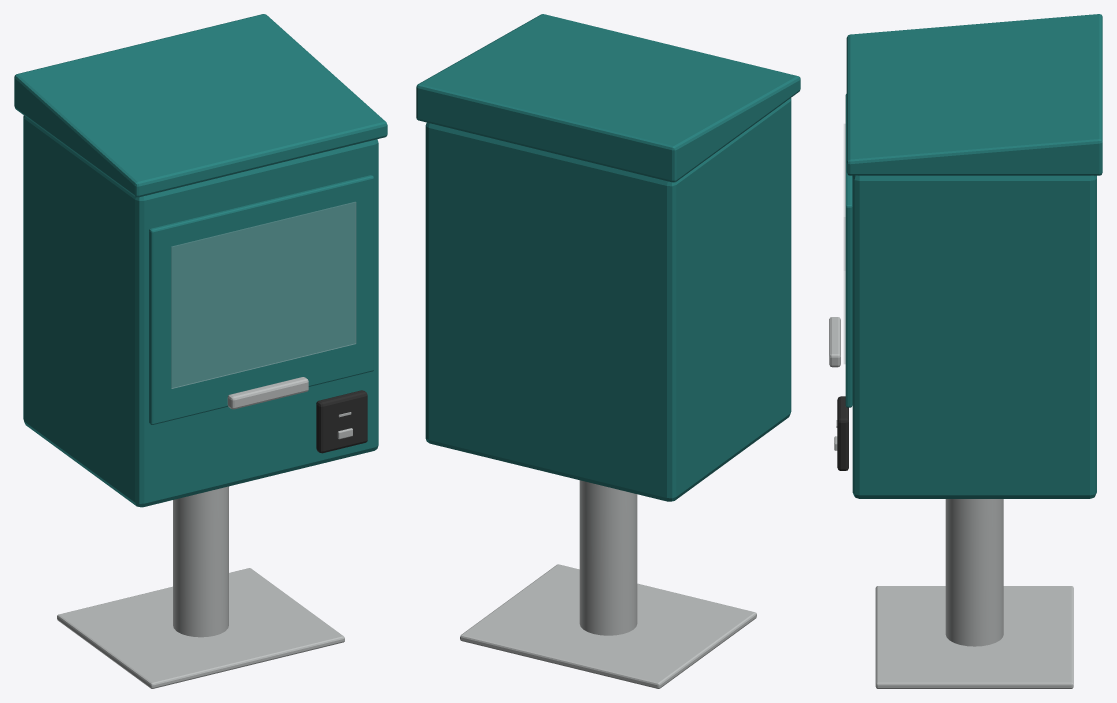
Rendered from city-newspaper-vending-box.glb.
3 views of the same model, side by side, from view 1: azimuth 30°, elevation 25°; view 2: azimuth 150°, elevation 25°; view 3: azimuth 270°, elevation 25° (orthographic). The views are drawn at different scales.
Parts seen in each view (by area): view 1: Assembly | Gloss teal enamel, Assembly | Scratched polycarbonate window, Assembly | Galvanized pedestal, Assembly | Coin mechanism black; view 2: Assembly | Gloss teal enamel, Assembly | Galvanized pedestal; view 3: Assembly | Gloss teal enamel, Assembly | Galvanized pedestal, Assembly | Coin mechanism black, Assembly | Scratched polycarbonate window.
Boxes of the visible parts, left/top/right/bottom form: Assembly | Gloss teal enamel: left=14, top=14, right=387, bottom=507; Assembly | Scratched polycarbonate window: left=171, top=202, right=356, bottom=388; Assembly | Galvanized pedestal: left=57, top=377, right=352, bottom=688; Assembly | Coin mechanism black: left=316, top=390, right=367, bottom=453; Assembly | Gloss teal enamel: left=416, top=14, right=800, bottom=501; Assembly | Galvanized pedestal: left=460, top=480, right=756, bottom=688; Assembly | Gloss teal enamel: left=845, top=14, right=1102, bottom=498; Assembly | Galvanized pedestal: left=829, top=317, right=1073, bottom=688; Assembly | Coin mechanism black: left=837, top=396, right=848, bottom=470; Assembly | Scratched polycarbonate window: left=843, top=123, right=845, bottom=364.
Size of the model in its own units: 0.52 by 1.07 by 0.47.
